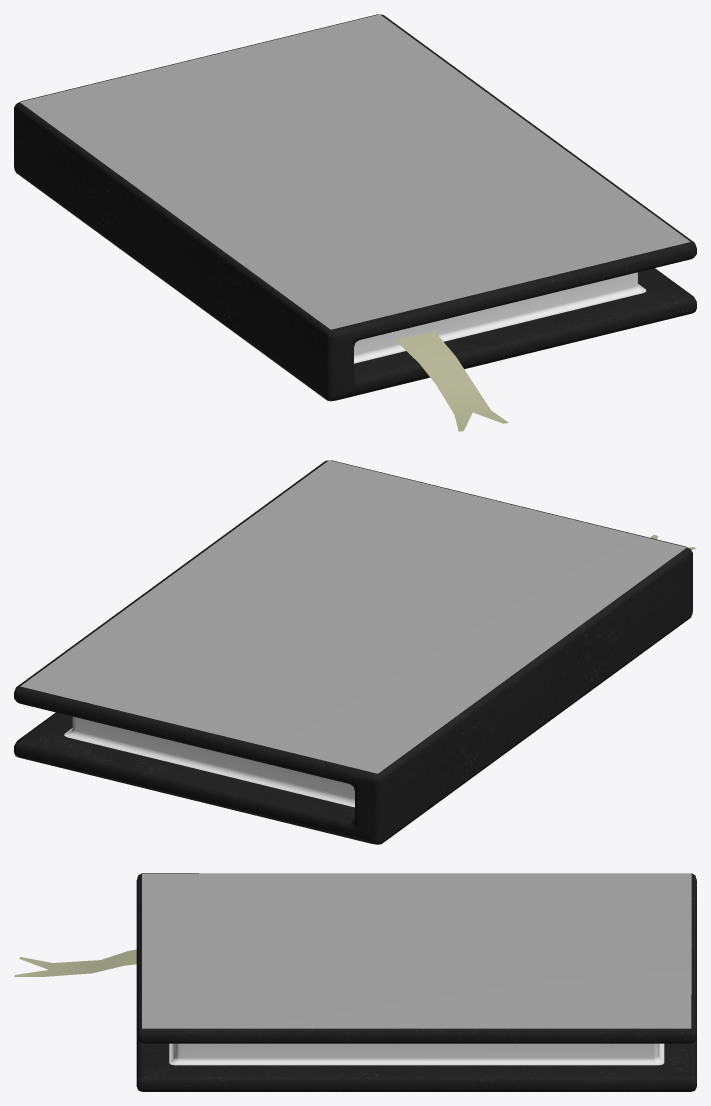
Rendered from book.fbx.
3 renders of one model, top to bottom at view 1: azimuth 30°, elevation 25°; view 2: azimuth 150°, elevation 25°; view 3: azimuth 270°, elevation 25°, orthographic. The views are drawn at different scales.
Parts seen in each view (by area): view 1: pCube19; view 2: pCube19; view 3: pCube19.
Boxes of the visible parts, x1,y1,x2,y2 form: pCube19: (14, 14, 696, 431); pCube19: (14, 460, 696, 844); pCube19: (14, 873, 696, 1091).
Size of the model in its own units: 41.44 by 7.63 by 74.85.
